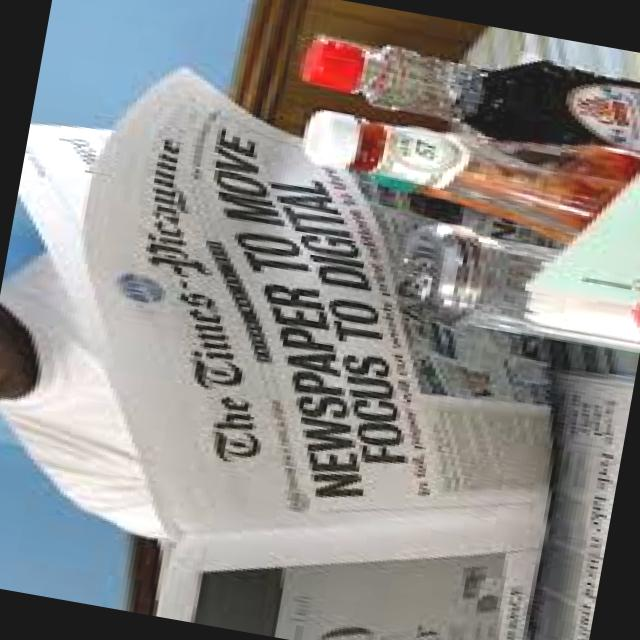bottle: (410, 52, 640, 355)
paper: (143, 114, 402, 574), (317, 313, 638, 640), (72, 72, 218, 354)
